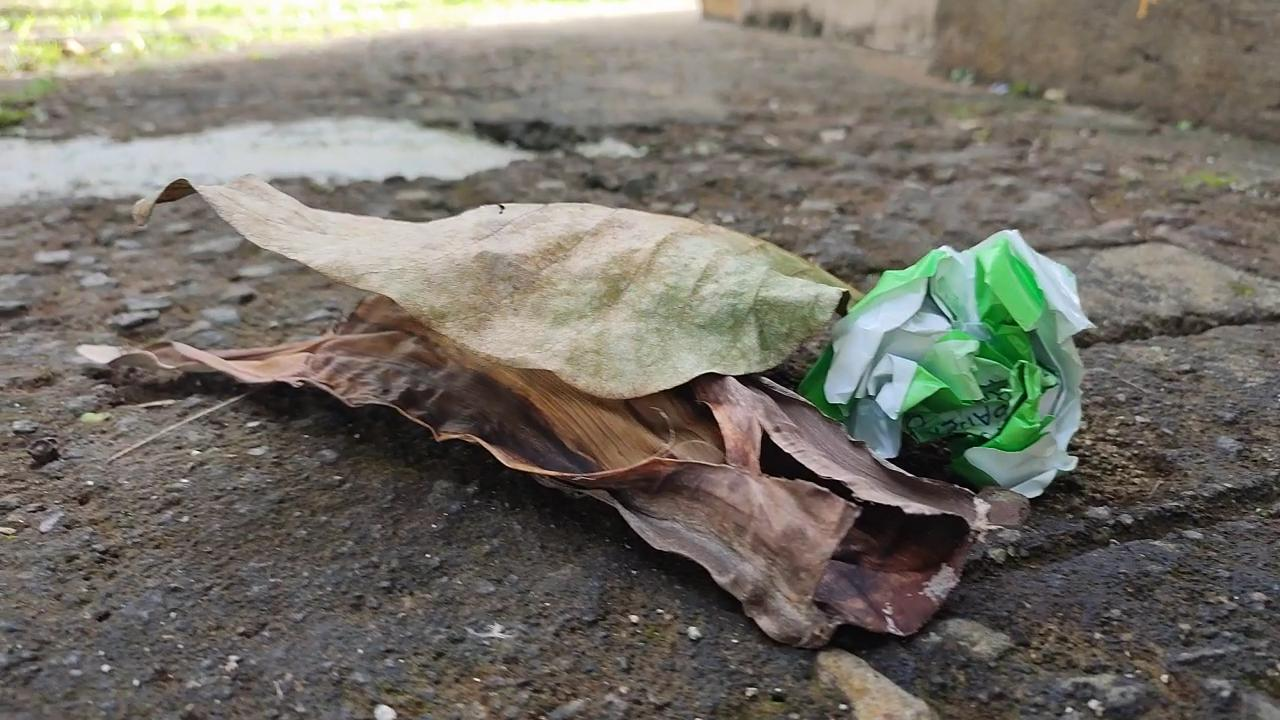Paper: (806, 217, 1092, 501)
